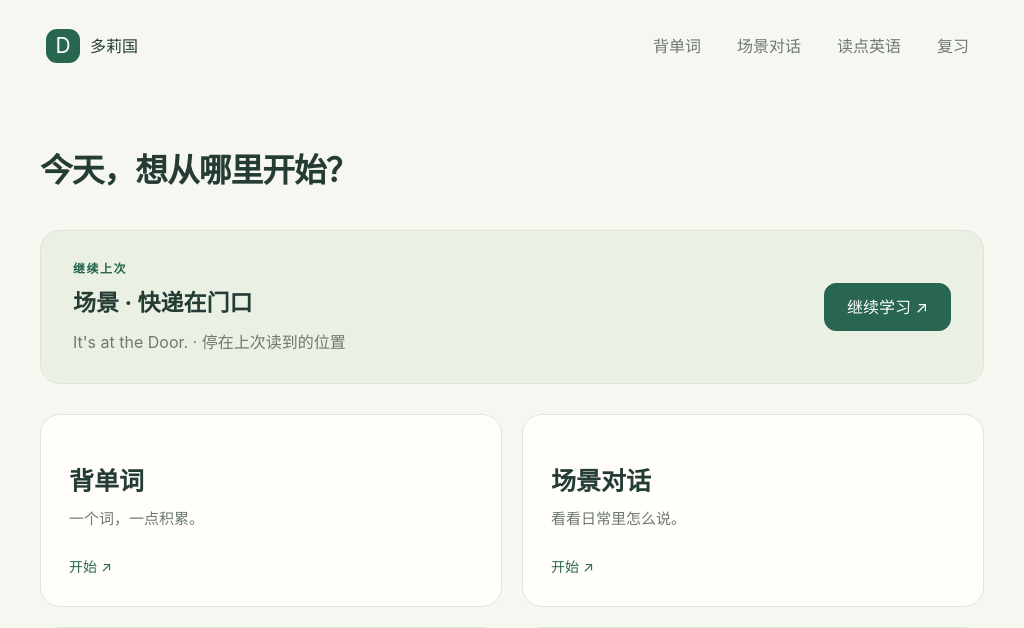
opens later incremental scene scene-package-at-the-door from home resume
Click the button "继续学习 ↗": click(888, 307) [824,283,951,332]
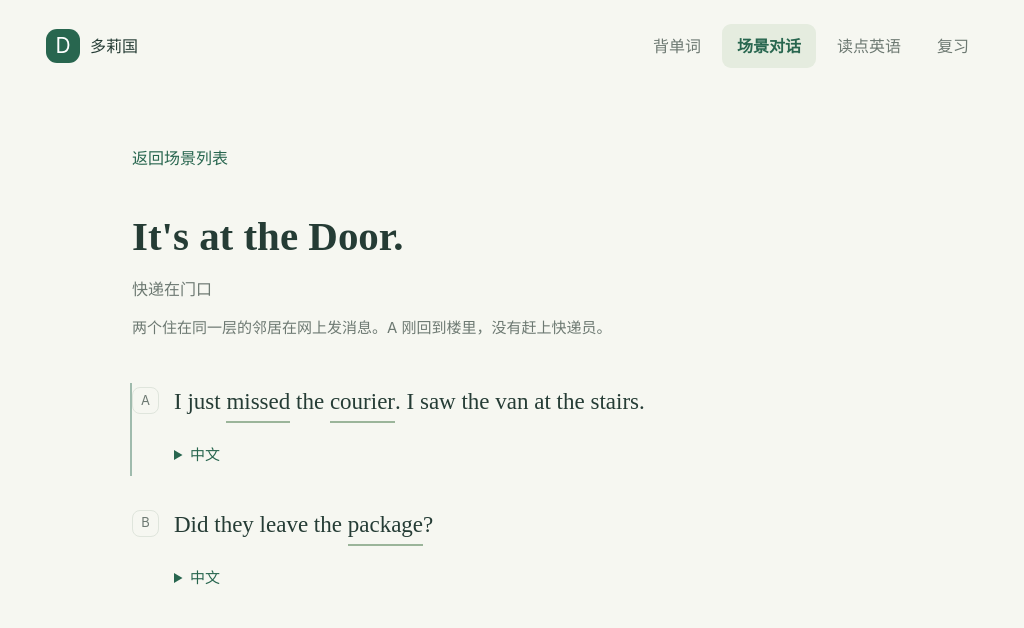
Check: the heading "It's at the Door." is shown, box [132,213,404,259]
